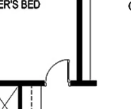door: (40, 54, 74, 95)
